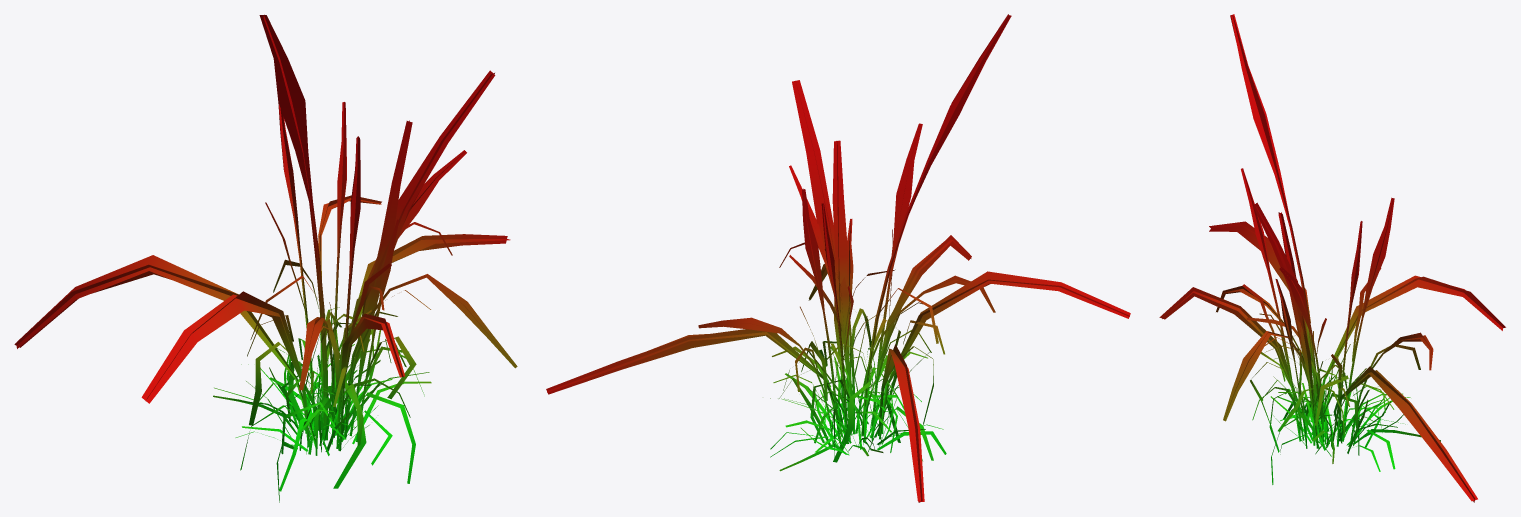
File: Wheat_LOD2_Var3_smdoejyr.fbx
The picture shows the model from 3 angles, left to right: view 1: azimuth 30°, elevation 25°; view 2: azimuth 150°, elevation 25°; view 3: azimuth 270°, elevation 25°; orthographic projection. The views are drawn at different scales.
Parts seen in each view (by area): view 1: _5wd3_Var3_LOD2; view 2: _5wd3_Var3_LOD2; view 3: _5wd3_Var3_LOD2.
Part boxes in pixels (bbox=[...]): _5wd3_Var3_LOD2: bbox=[14, 14, 517, 502]; _5wd3_Var3_LOD2: bbox=[546, 14, 1130, 502]; _5wd3_Var3_LOD2: bbox=[1159, 14, 1505, 502].
Size of the model in its own units: 69.77 by 65.71 by 50.84.
